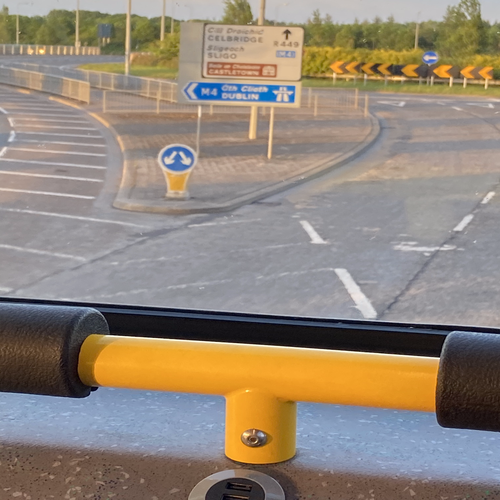Keep Left Right: (155, 142, 202, 174)
Left Turn: (421, 51, 441, 64)
